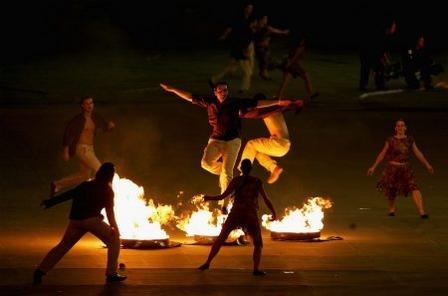fire: (99, 174, 336, 254)
